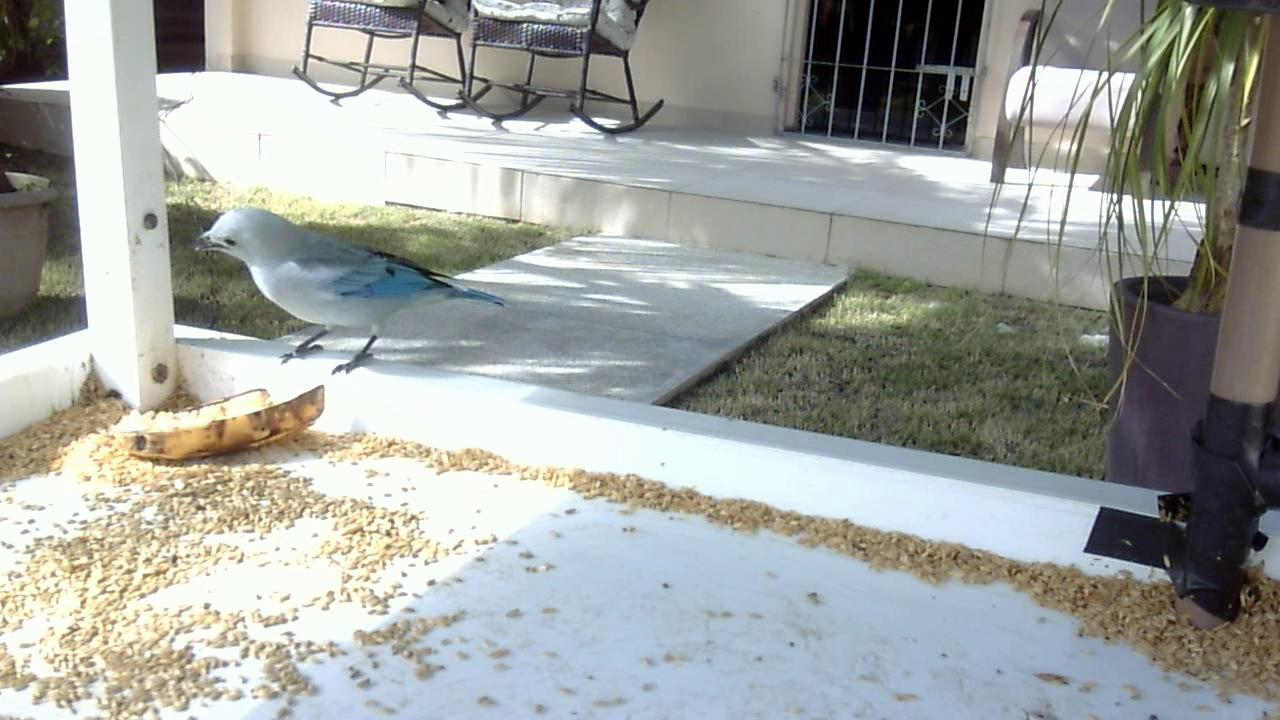sanhaco_da_amazonia: (195, 204, 513, 379)
